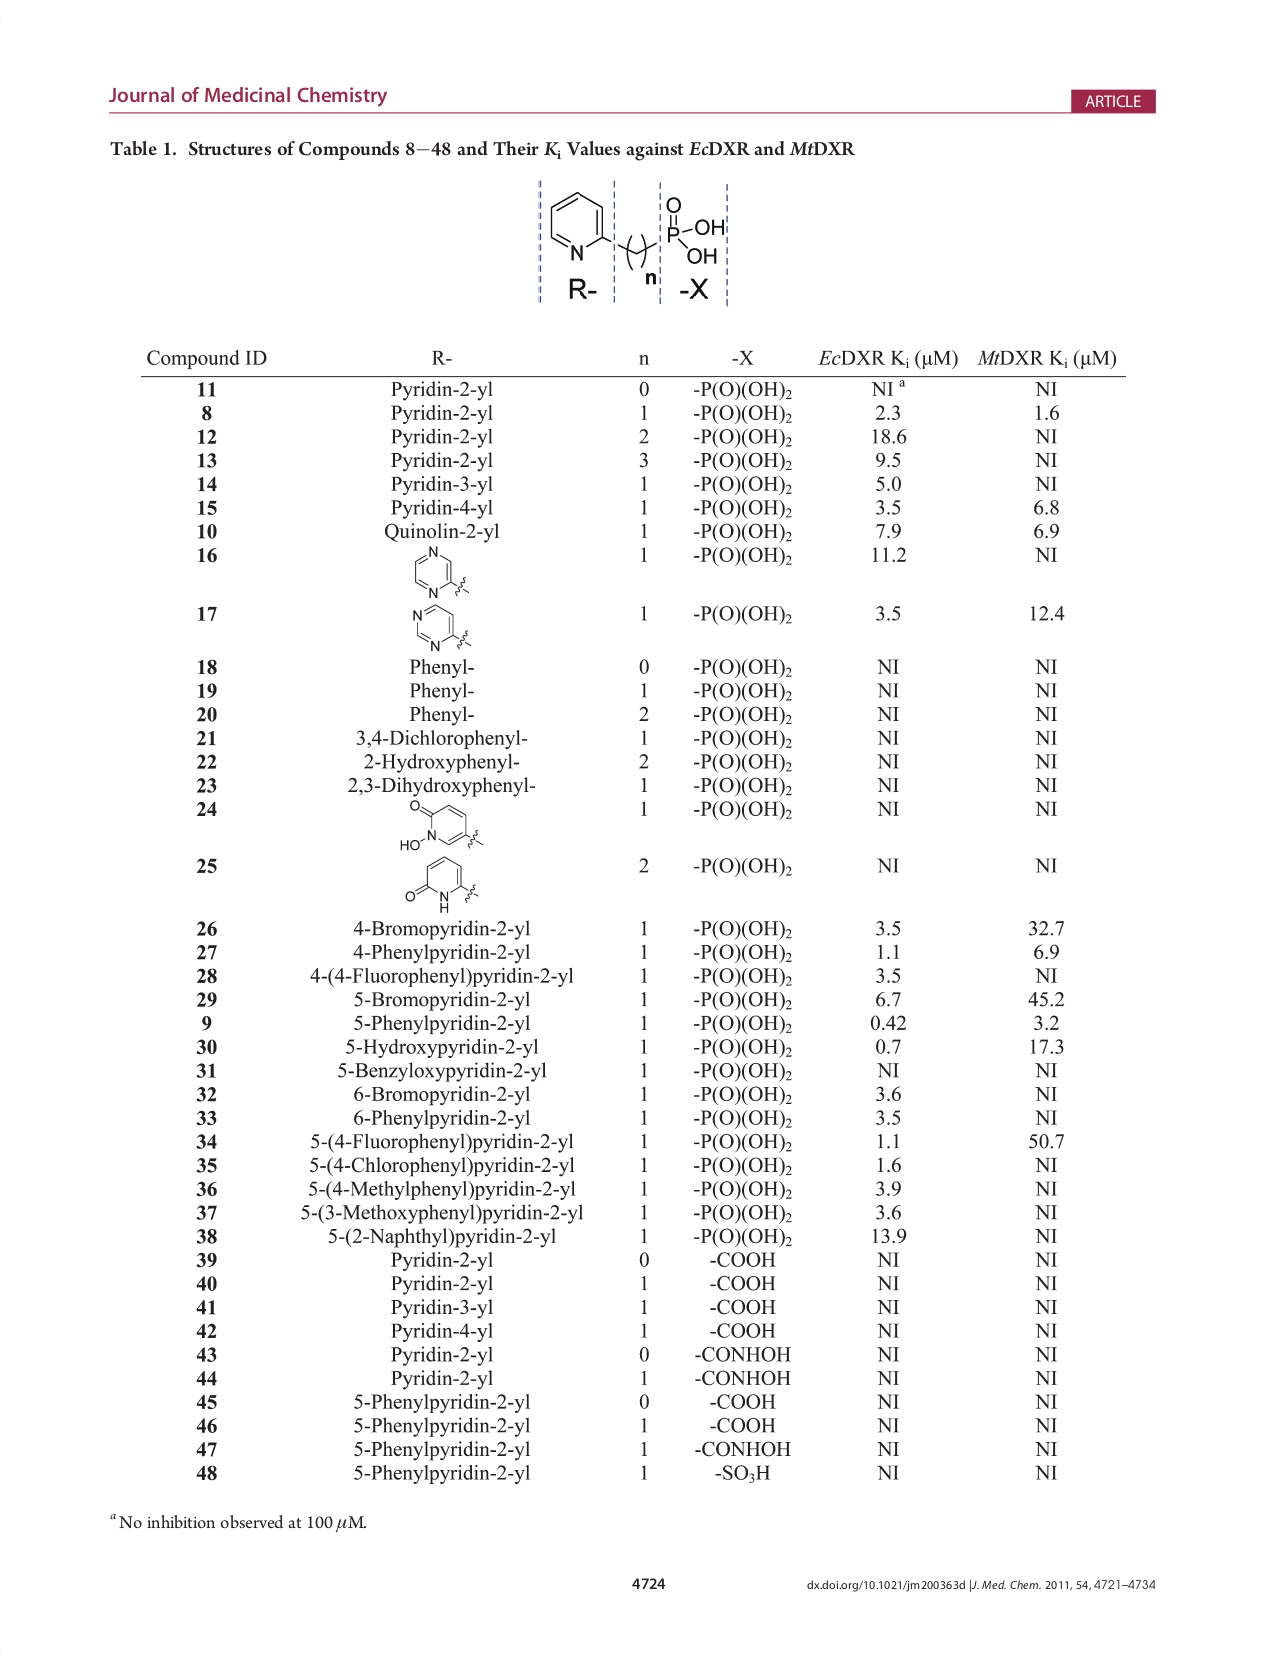exist_molecular: (547, 189, 725, 269), (398, 797, 485, 852), (403, 854, 481, 914), (410, 543, 473, 598), (410, 601, 469, 653)
